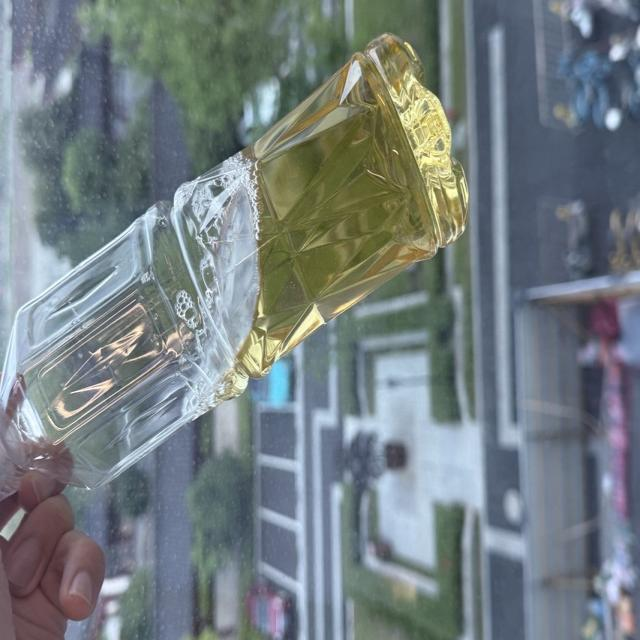medium: (0, 34, 467, 496)
